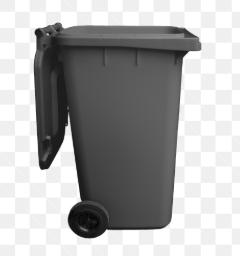garbage container: (29, 18, 204, 240)
